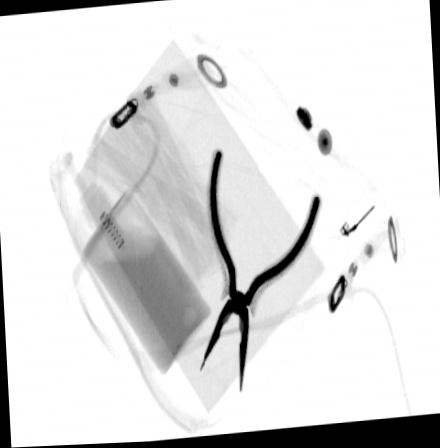Pliers: (197, 149, 323, 396)
